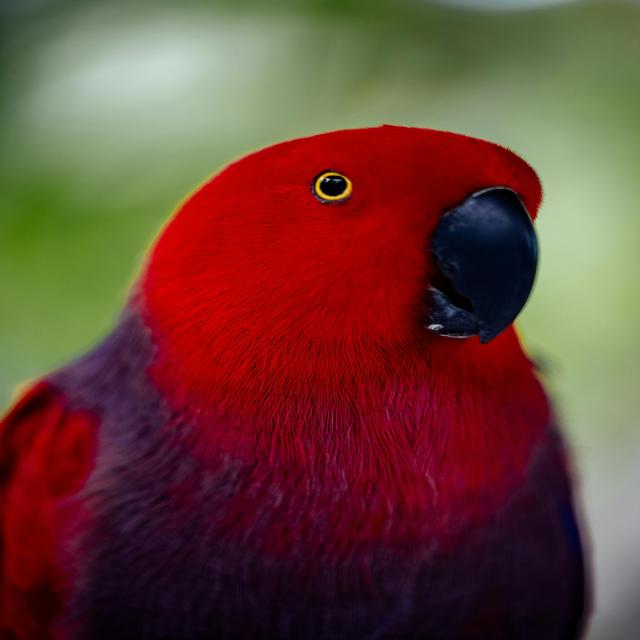Parrot: (0, 126, 587, 640)
